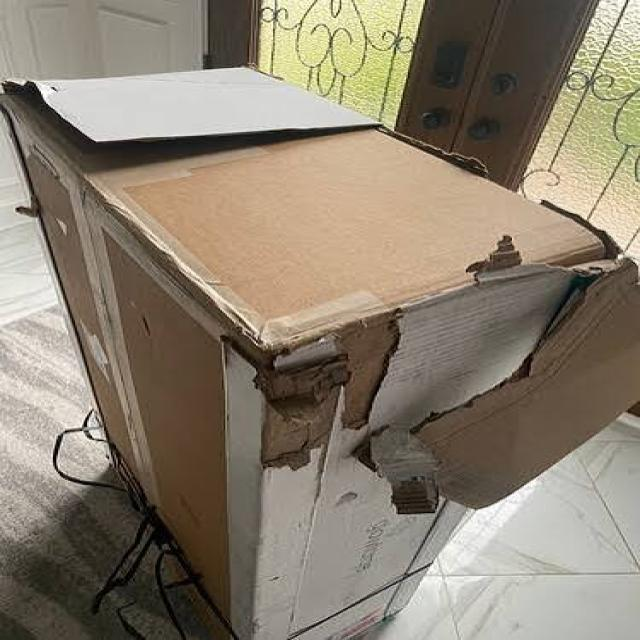package_damage: (198, 206, 640, 523)
